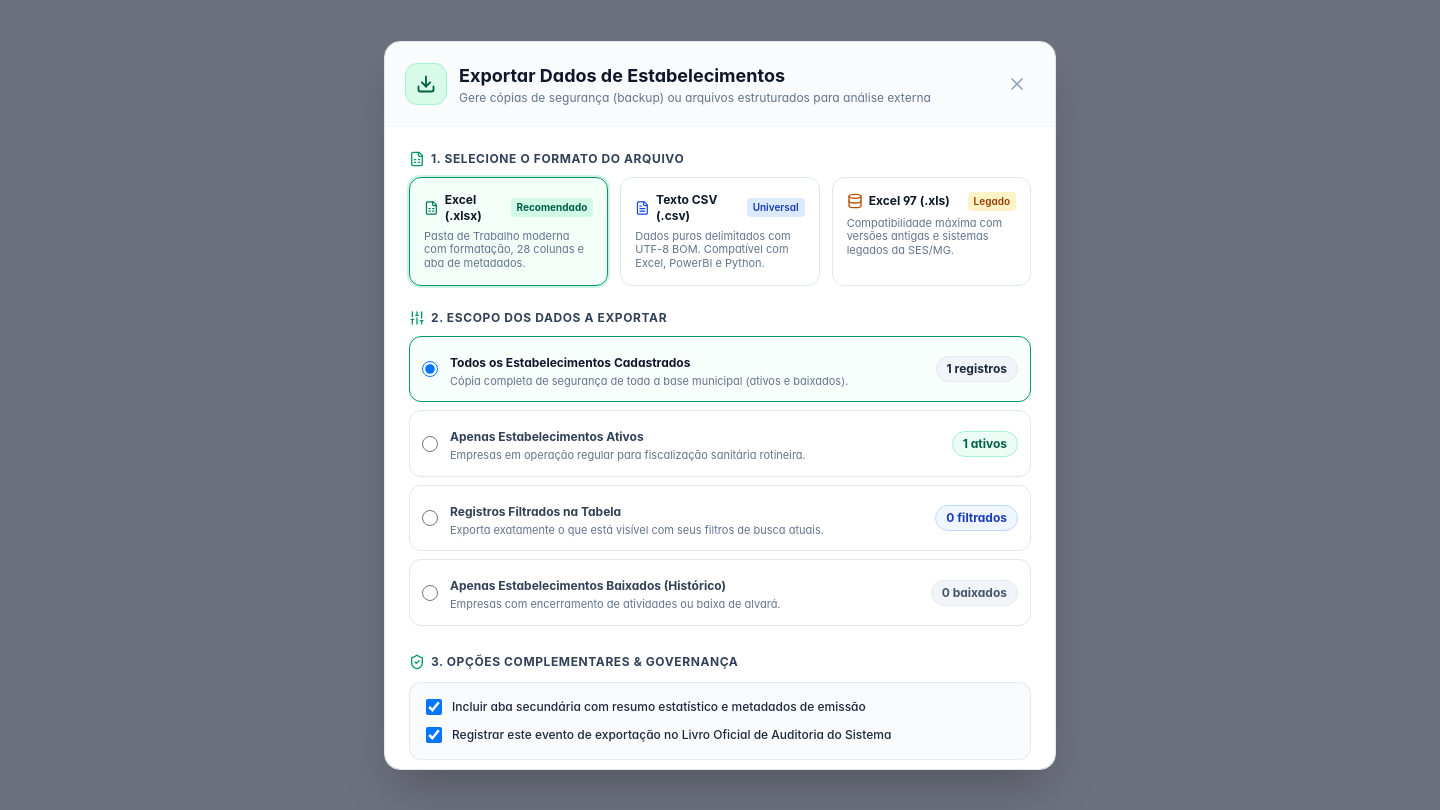
Test: ExportarEstabelecimentosModal - Unit Tests › exibe opcoes de formato e permite selecionar CSV
Click the text "Texto CSV (.csv)". click: (676,207)
box: [635,192,717,222]
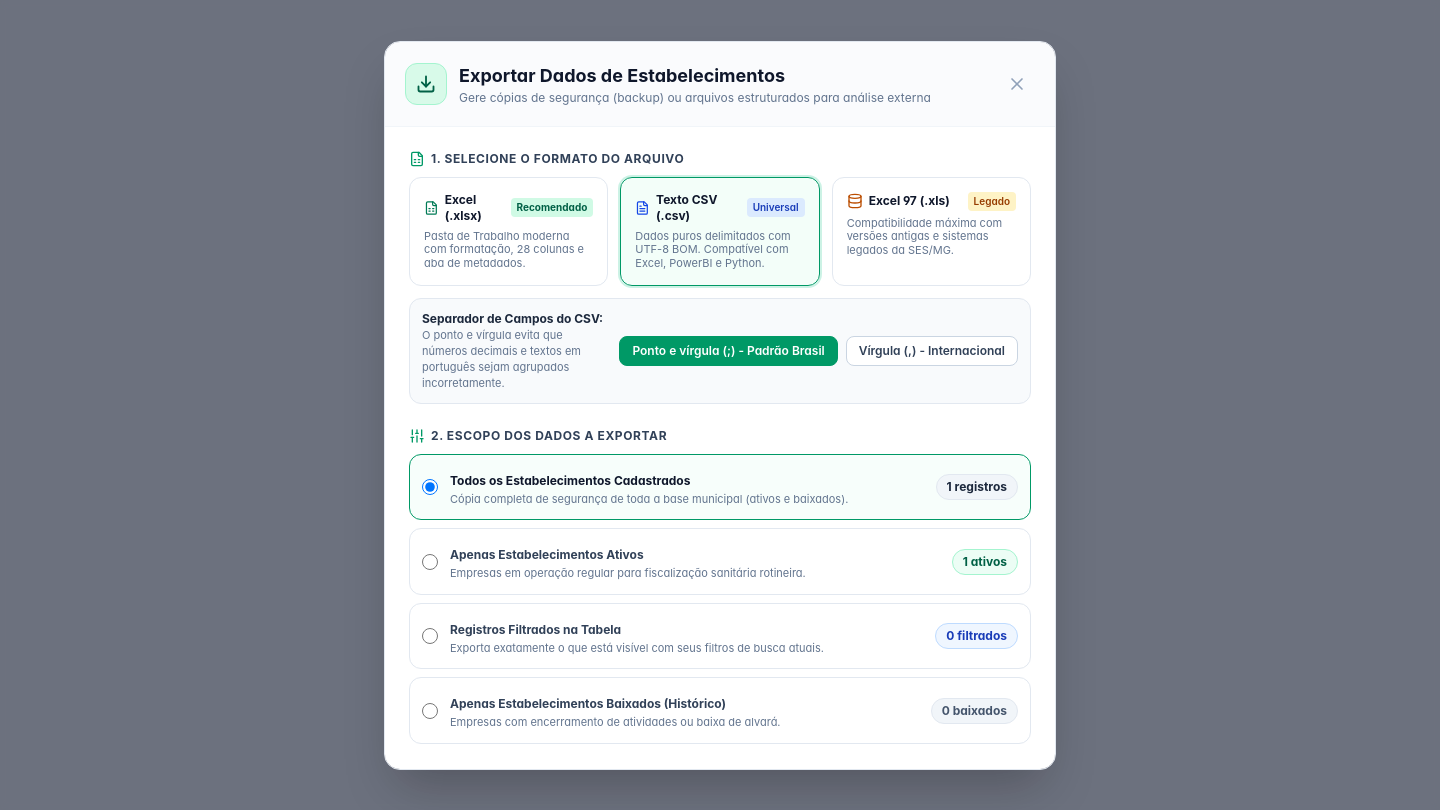
Check: the text "Separador de Campos do CSV:" is shown, box [422,311,607,327]
